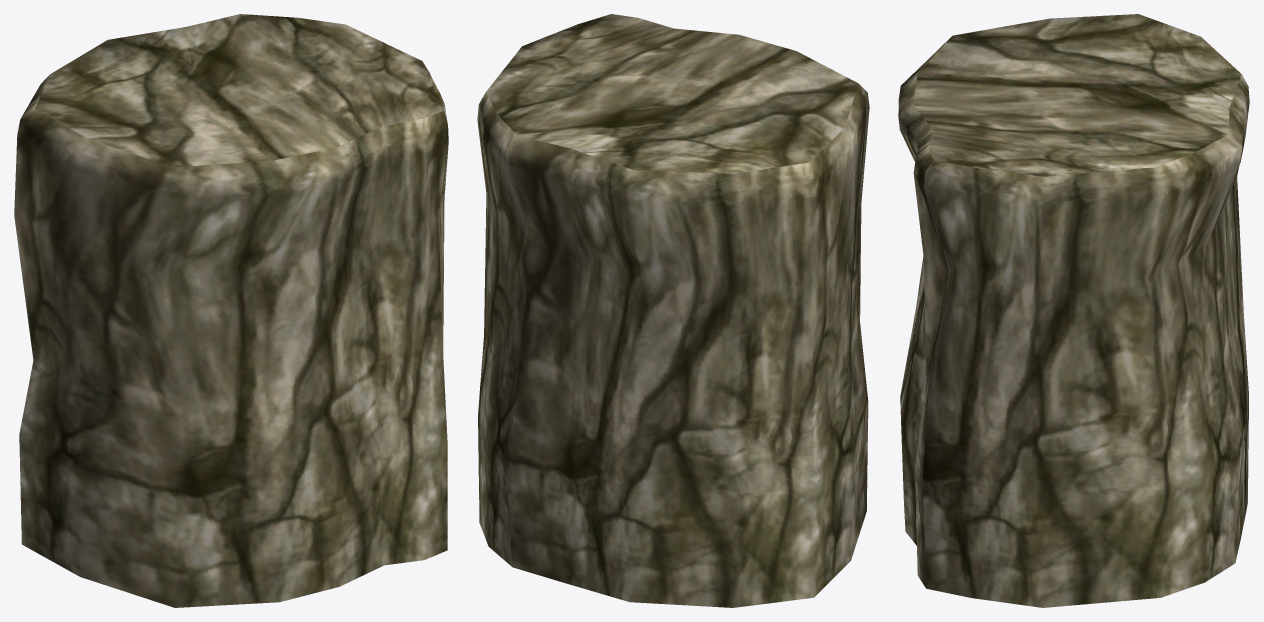
The model's file is CB_PLATFORM03.fbx.
3 views of the same model, side by side, from view 1: azimuth 30°, elevation 25°; view 2: azimuth 150°, elevation 25°; view 3: azimuth 270°, elevation 25° (orthographic).
Visible parts, largest first — view 1: CB_PLATFORM03; view 2: CB_PLATFORM03; view 3: CB_PLATFORM03.
Boxes of the visible parts, x1,y1,x2,y2 form: CB_PLATFORM03: (14,14,448,607); CB_PLATFORM03: (477,14,869,607); CB_PLATFORM03: (898,14,1249,607).
Size of the model in its own units: 33034 by 38280 by 28436.
2 materials, 2 textured.
